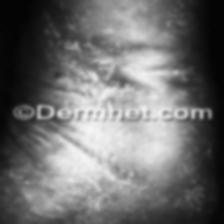Toxin: (70, 56, 142, 106), (36, 18, 75, 48)
